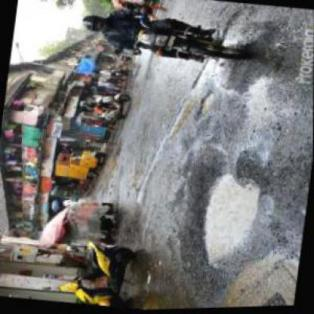Hueco: (176, 164, 262, 275), (194, 90, 216, 120)
